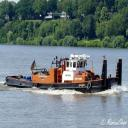tugboat: (4, 51, 125, 99)
